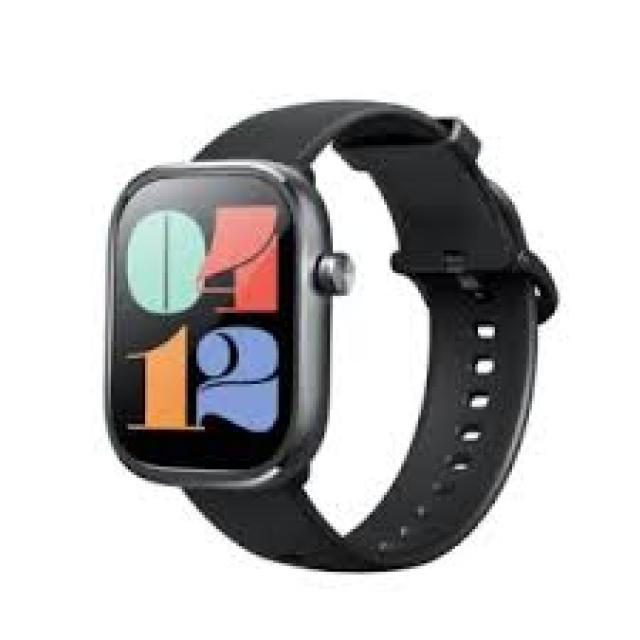objects: (105, 100, 555, 569)
